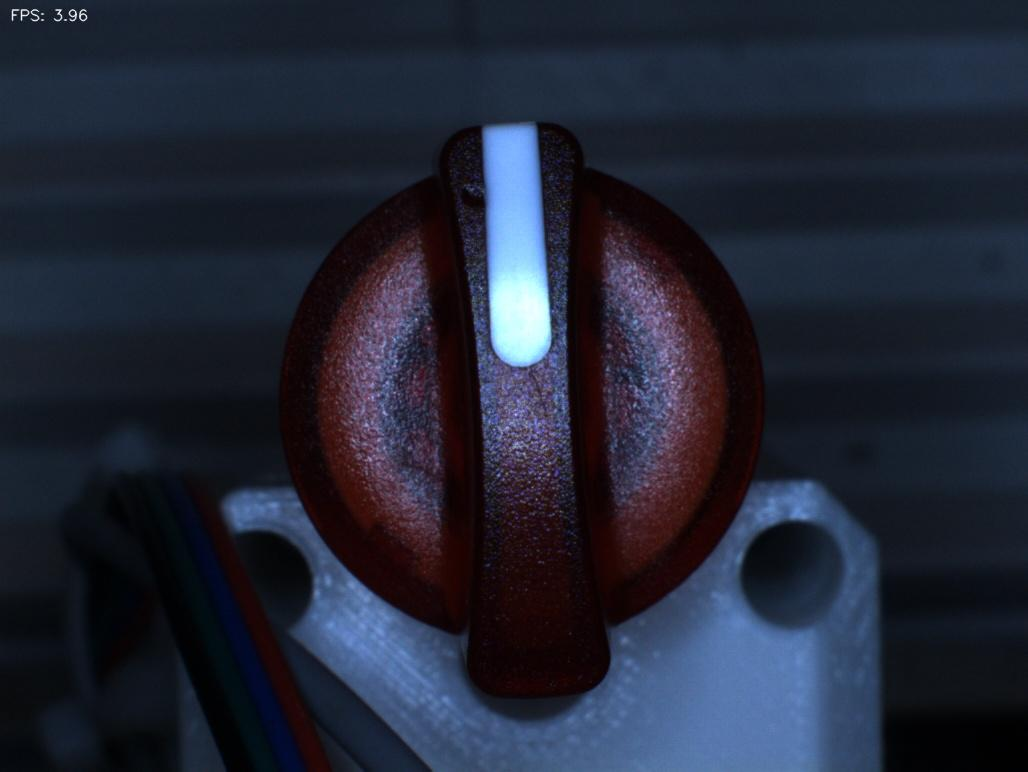Choc: (428, 153, 507, 222)
